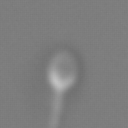normal: (42, 91, 73, 127)
